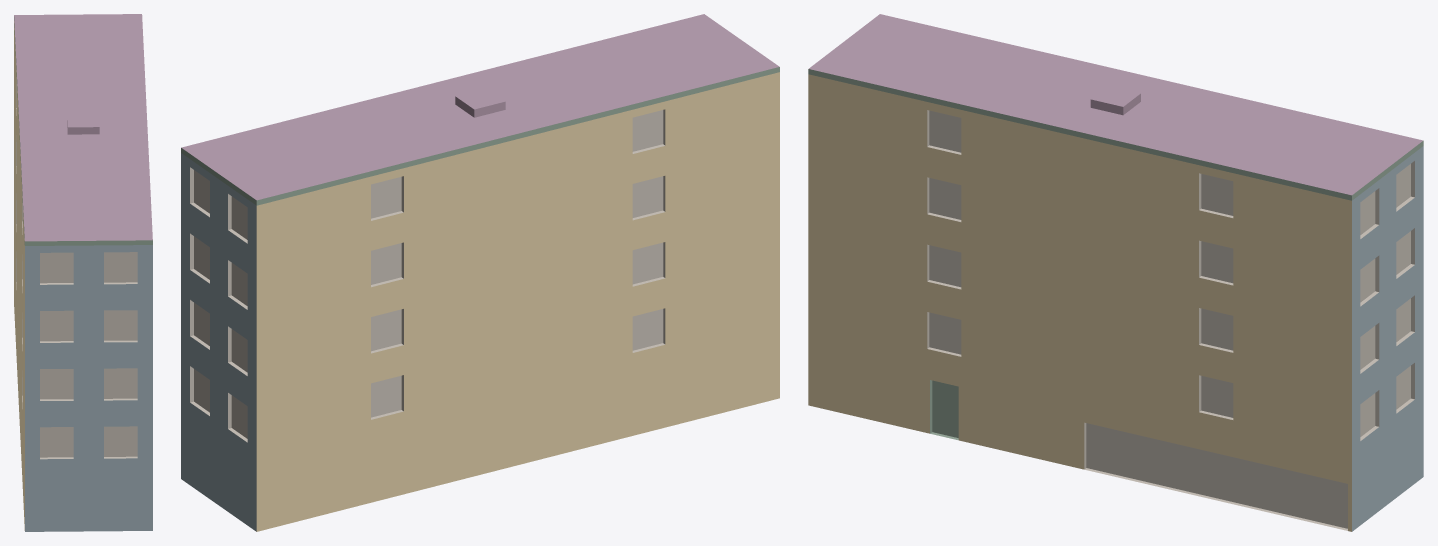
Rendered from doitt-925937__lod_0.glb.
3 views of the same model, side by side, from view 1: azimuth 30°, elevation 25°; view 2: azimuth 150°, elevation 25°; view 3: azimuth 270°, elevation 25° (orthographic). The views are drawn at different scales.
Bounding box in the file's own units: 18.8 × 16.67 × 26.93.
